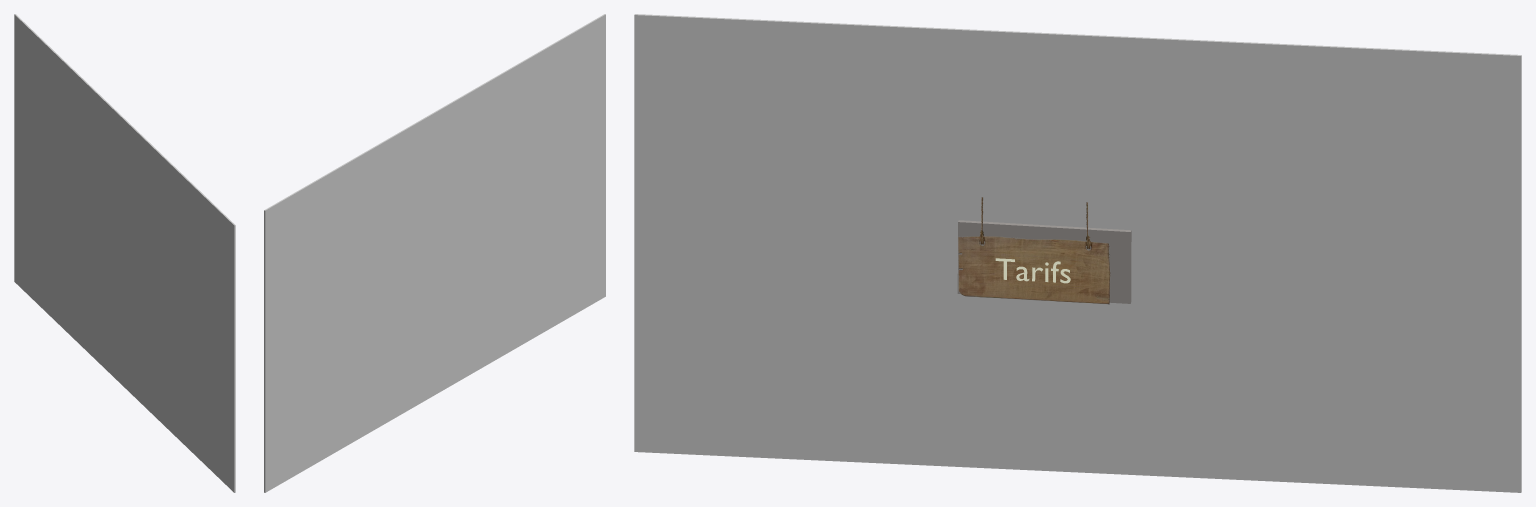
The model's file is panneau-tarifs.glb.
3 renders of one model, left to right at view 1: azimuth 30°, elevation 25°; view 2: azimuth 150°, elevation 25°; view 3: azimuth 270°, elevation 25°, orthographic. The views are drawn at different scales.
Visible parts, largest first — view 1: Cube.001; view 2: Cube.001; view 3: Cube.001, pancarte-portfolio-webp, ombre.
Part boxes in pixels (x1=…): Cube.001: x1=14, y1=14, x2=235, y2=492; Cube.001: x1=264, y1=14, x2=605, y2=492; Cube.001: x1=634, y1=14, x2=1521, y2=492; pancarte-portfolio-webp: x1=958, y1=197, x2=1111, y2=304; ombre: x1=957, y1=220, x2=1131, y2=303.
Size of the model in its own units: 8.07 by 39.12 by 71.98.
Materials: 5 (1 with a texture image).
